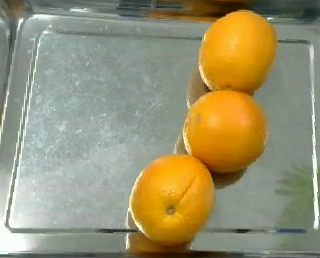Orange: (128, 154, 215, 245), (183, 90, 269, 172), (198, 8, 278, 93)
